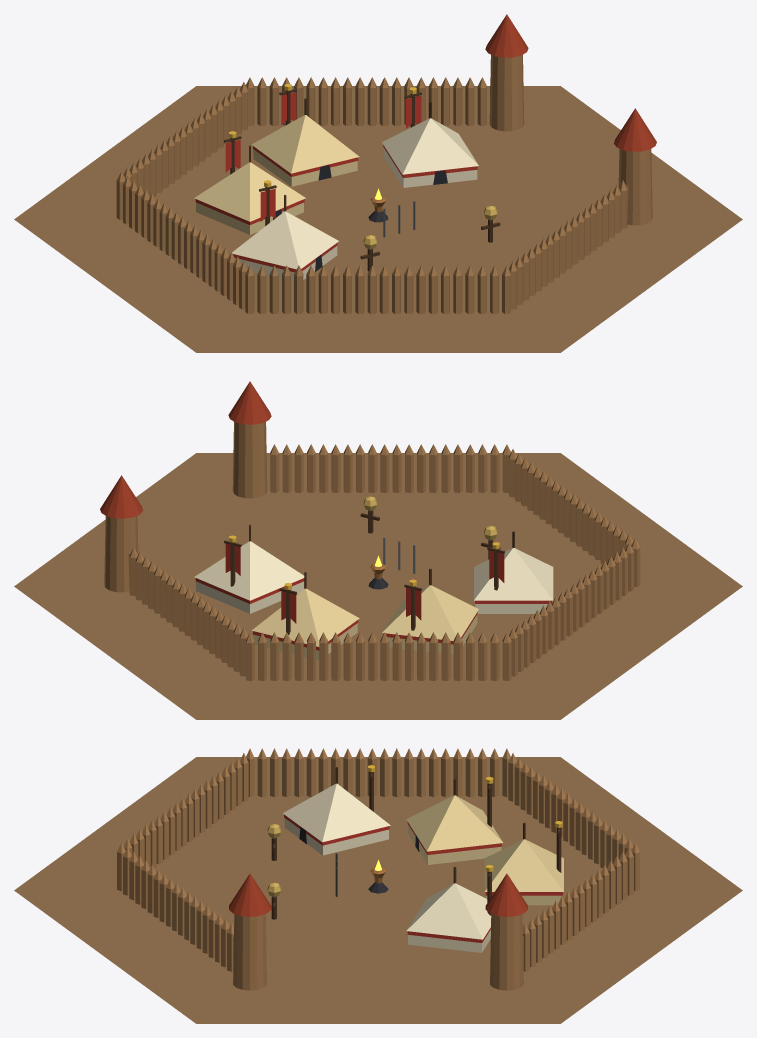
File: district_encampment_1.fbx
3 renders of one model, top to bottom at view 1: azimuth 30°, elevation 25°; view 2: azimuth 150°, elevation 25°; view 3: azimuth 270°, elevation 25°, orthographic.
Parts seen in each view (by area): view 1: district_encampment_1; view 2: district_encampment_1; view 3: district_encampment_1.
Boxes of the visible parts, x1,y1,x2,y2 form: district_encampment_1: (14, 14, 742, 352); district_encampment_1: (14, 381, 742, 719); district_encampment_1: (14, 748, 742, 1023).
Size of the model in its own units: 182 by 35.4 by 210.
